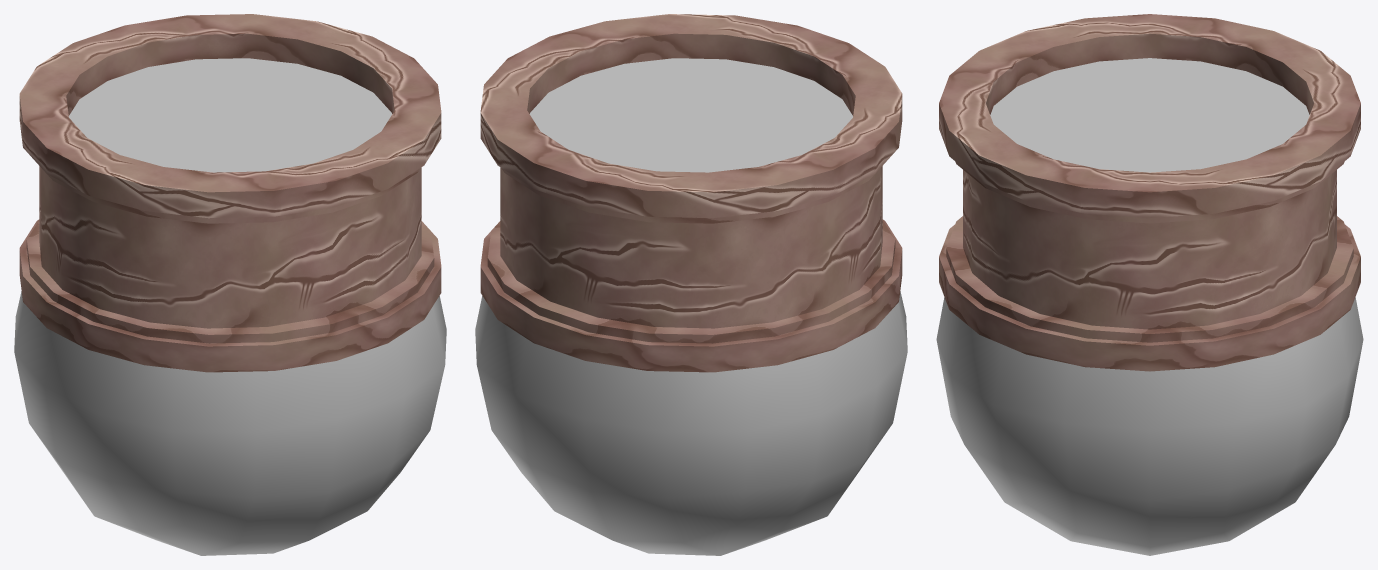
The model's file is FloatingPlatform.fbx.
3 views of the same model, side by side, from view 1: azimuth 30°, elevation 25°; view 2: azimuth 150°, elevation 25°; view 3: azimuth 270°, elevation 25° (orthographic).
Visible parts, largest first — view 1: pPipe2; view 2: pPipe2; view 3: pPipe2.
Boxes of the visible parts, left/top/right/bottom form: pPipe2: left=14, top=14, right=446, bottom=555; pPipe2: left=475, top=14, right=907, bottom=555; pPipe2: left=936, top=14, right=1363, bottom=555.
Bounding box in the file's own units: 11.23 × 12.47 × 11.23.
